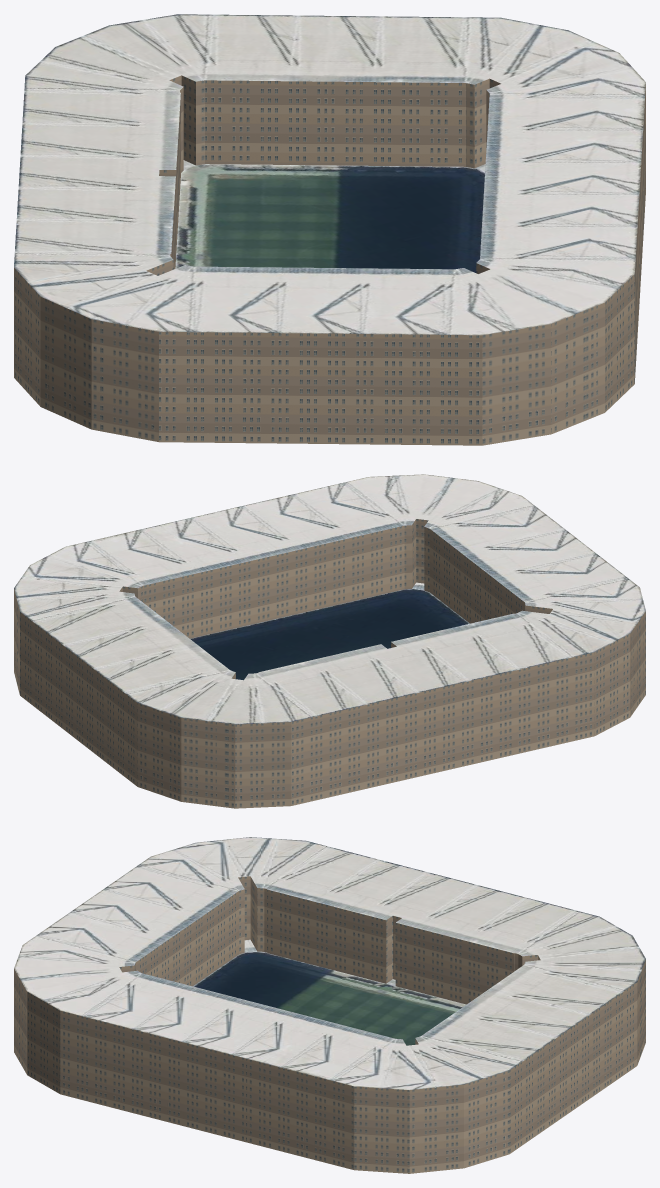
The model's file is Borussia_Park.glb.
3 renders of one model, top to bottom at view 1: azimuth 30°, elevation 25°; view 2: azimuth 150°, elevation 25°; view 3: azimuth 270°, elevation 25°, orthographic. The views are drawn at different scales.
Visible parts, largest first — view 1: Borussia_Park; view 2: Borussia_Park; view 3: Borussia_Park.
Part boxes in pixels (x1=…): Borussia_Park: x1=14, y1=14, x2=645, y2=445; Borussia_Park: x1=14, y1=474, x2=645, y2=808; Borussia_Park: x1=14, y1=837, x2=645, y2=1173.
Bounding box in the file's own units: 223 × 34.43 × 236.
Materials: 2 (2 with a texture image).
